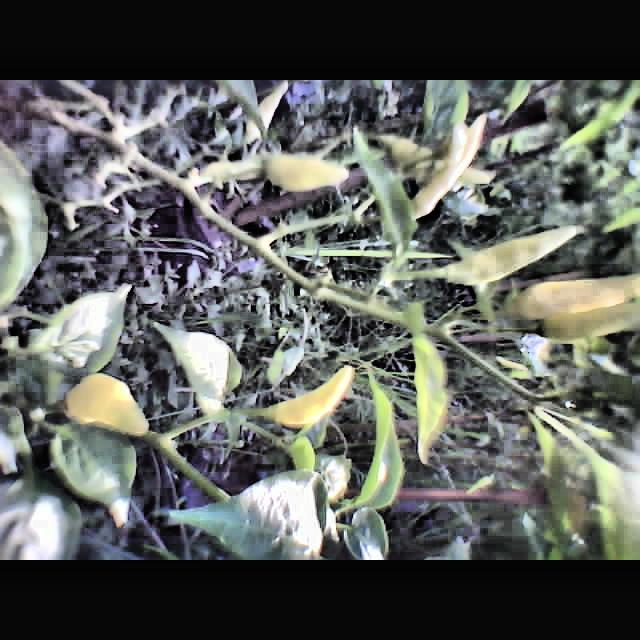Cabai: (67, 370, 157, 452), (271, 362, 365, 439)
